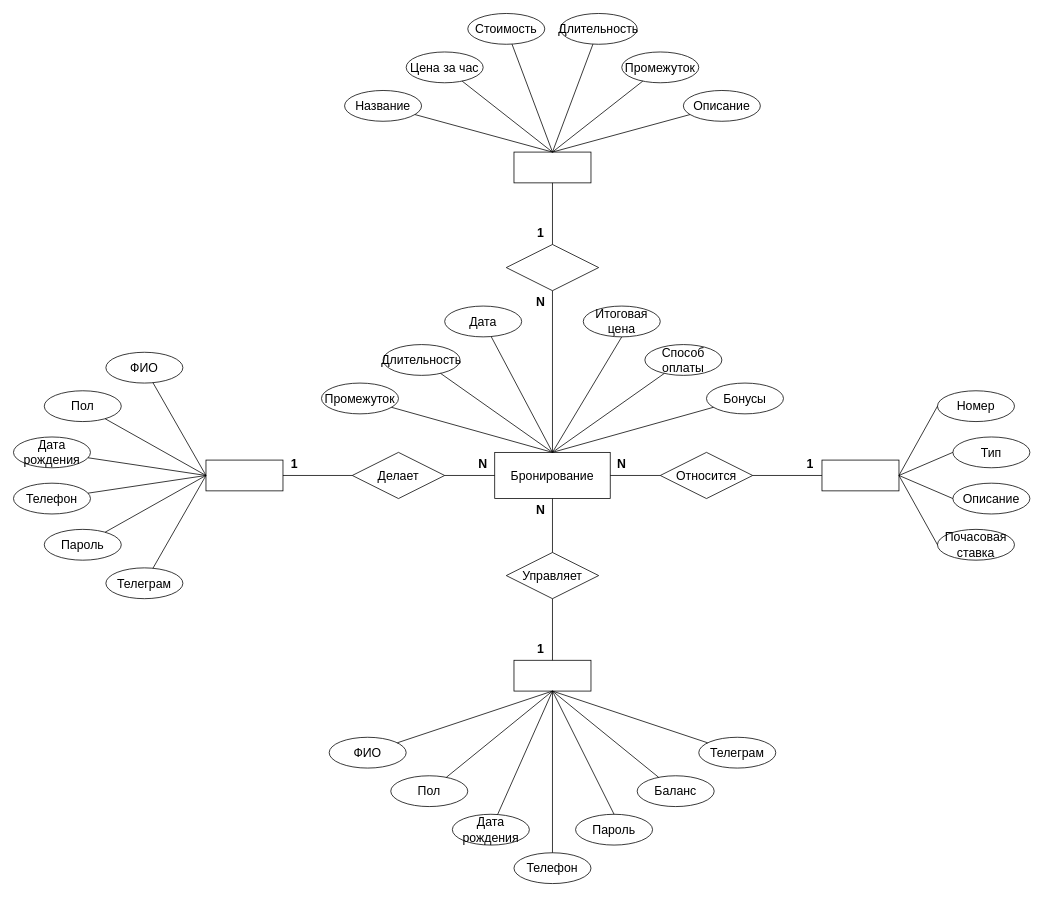
Image size: 1043x897. Some labels were removed from this diagram. The shapes that lost their labels are listed below. From the top down, each one's centre as x and y in pixels, then its label:
At [552,167]: "Пакет".
At [552,267]: "Применяется".
At [244,475]: "Админ".
At [860,475]: "Место".
At [552,675]: "Клиент".
